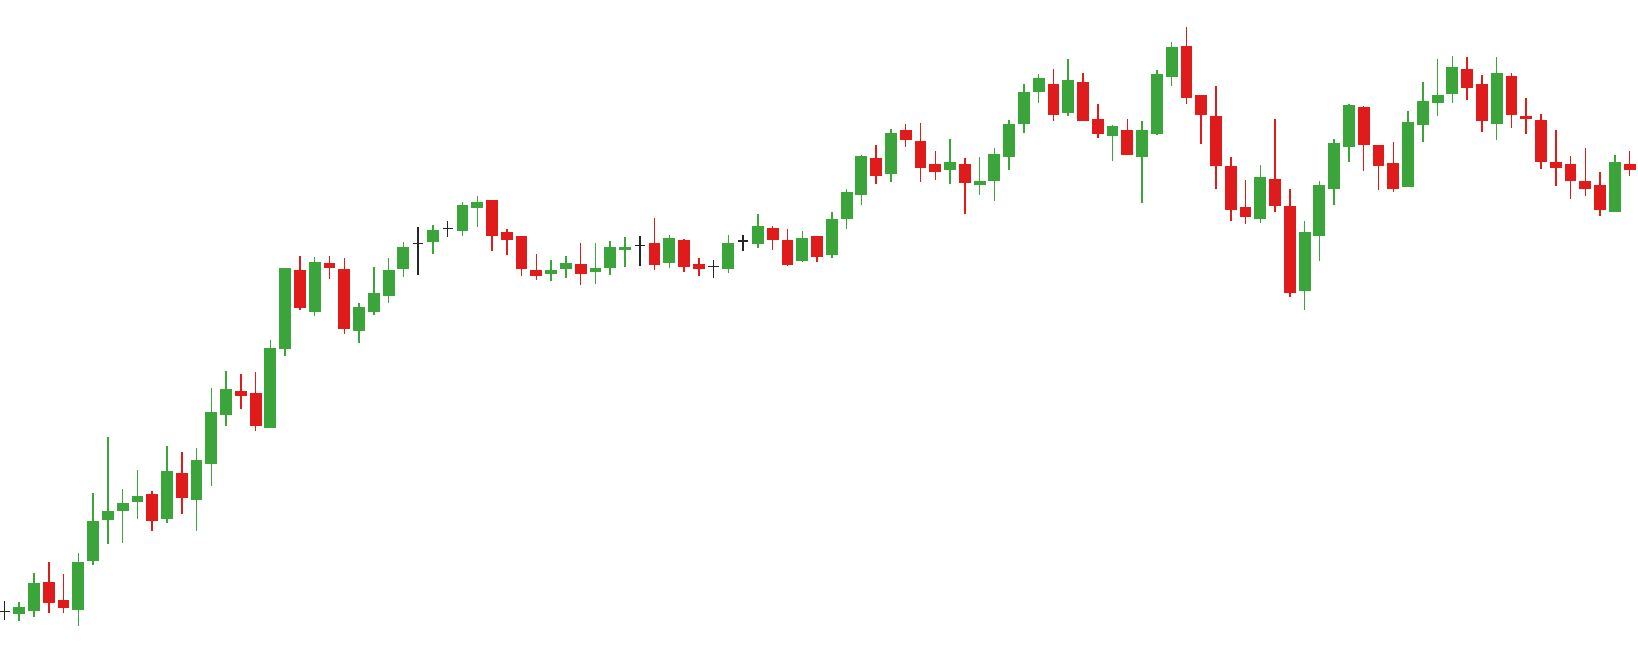sell: (1339, 48, 1489, 163), (1061, 18, 1196, 140)
